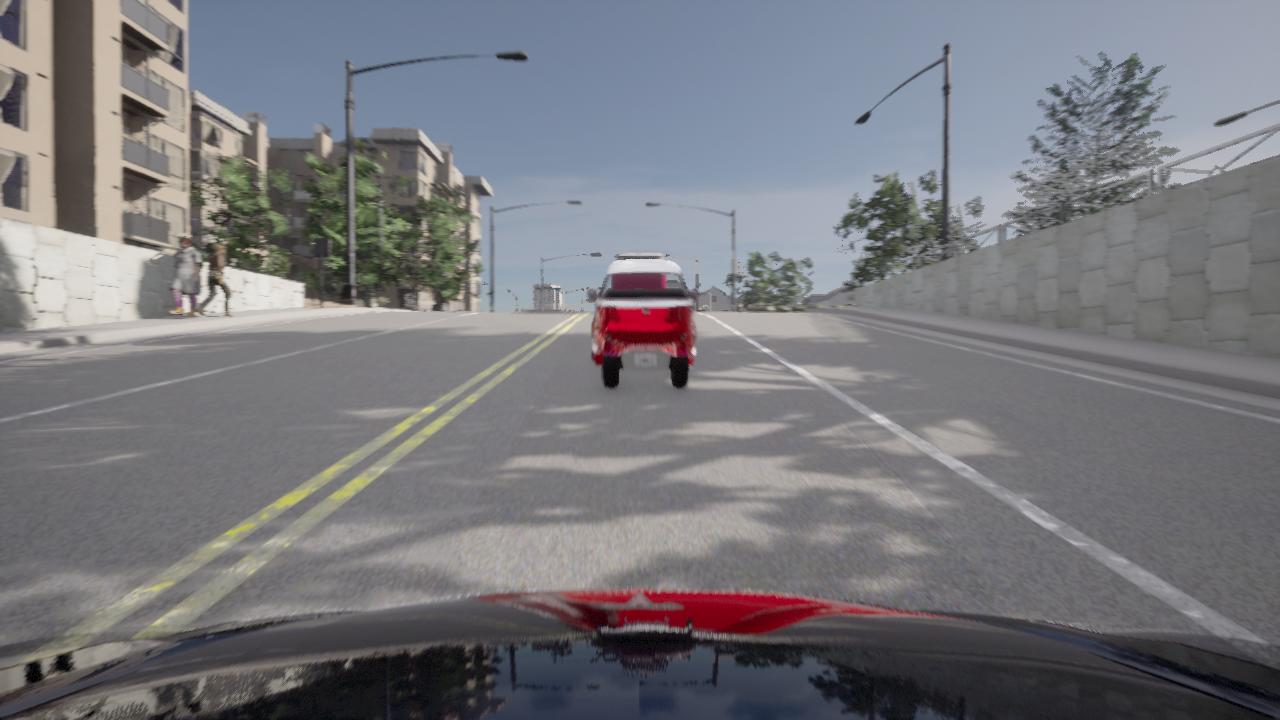cyclist: (0, 588, 1279, 719), (587, 260, 699, 388), (615, 253, 663, 261)
pedestrian: (195, 244, 235, 316), (169, 238, 203, 316), (740, 310, 742, 311), (481, 310, 482, 311)
